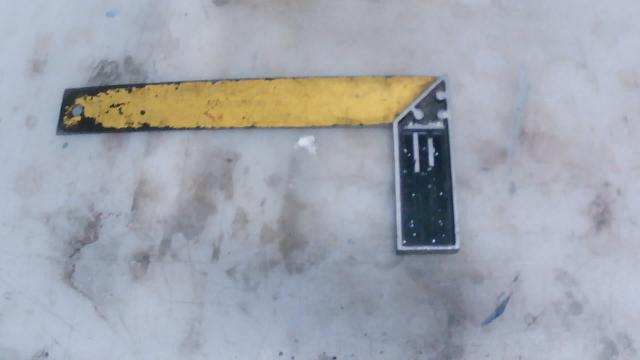penggaris_siku: (55, 68, 475, 277)
